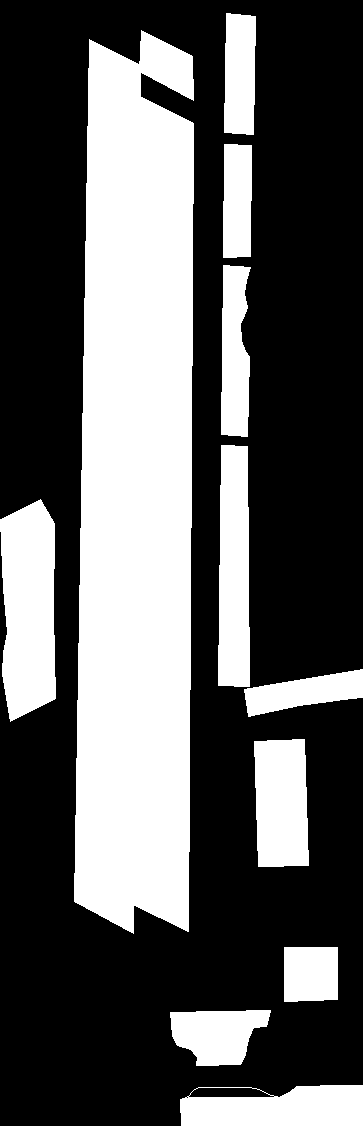parkingspot: (74, 39, 140, 933), (130, 94, 193, 931), (0, 499, 55, 721), (180, 1085, 363, 1126), (218, 445, 249, 686), (254, 739, 308, 866), (244, 669, 363, 716), (170, 1010, 270, 1065), (221, 265, 250, 436), (139, 30, 193, 100), (224, 13, 255, 134), (223, 144, 251, 257), (284, 947, 337, 1001)
